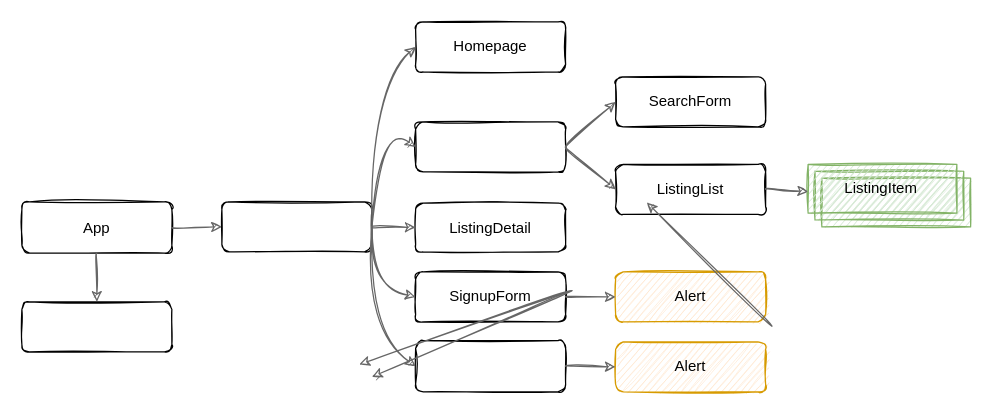
Image size: 993x414. Some labels were removed from this diagram. The shapes that lost their labels are listed below. From the top down, each one's box as (x1, y1, x2, y2) in pixels, then its label:
(414, 121, 566, 172): Listings
(221, 201, 372, 252): Routes
(21, 301, 172, 352): Navigation
(414, 339, 566, 392): LoginForm
